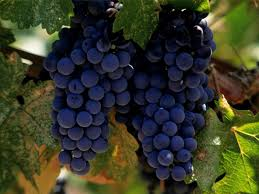Black grapes: (124, 11, 215, 182), (44, 20, 132, 177)
